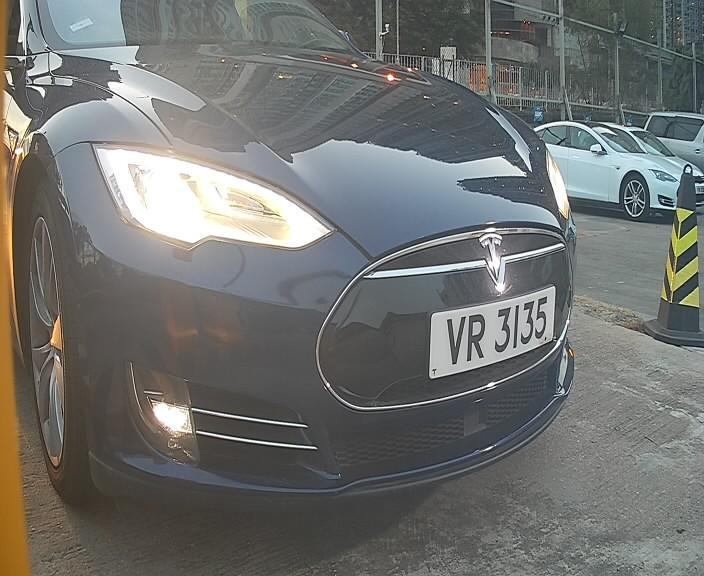License Plate: (422, 286, 560, 381)
